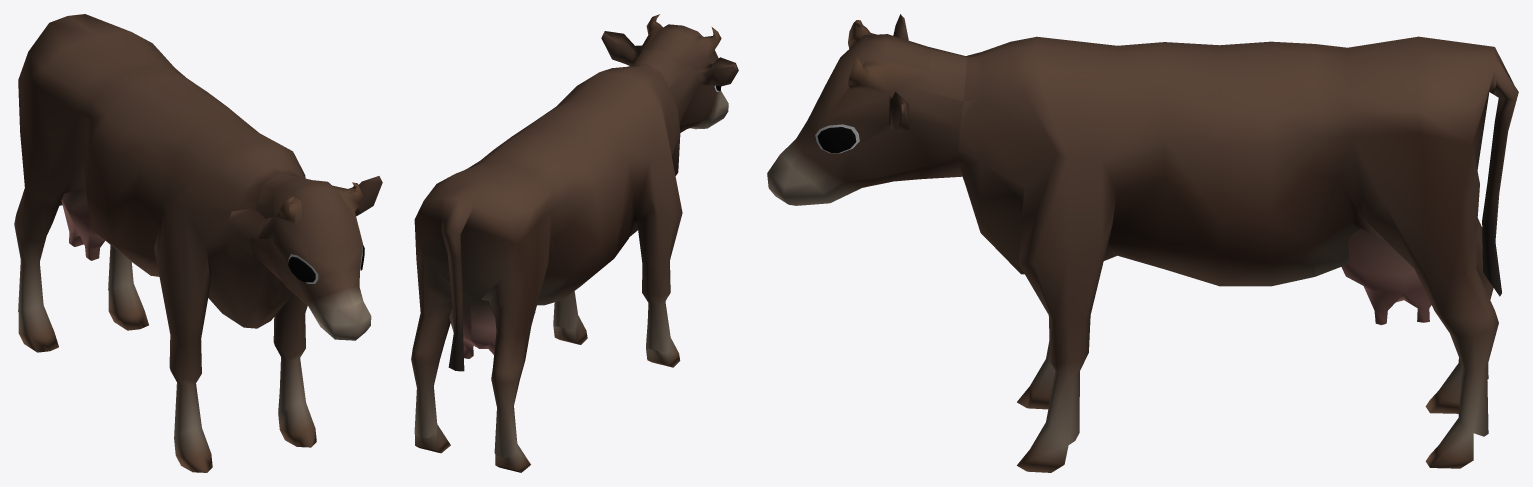
The model's file is BrownCow.fbx.
3 renders of one model, left to right at view 1: azimuth 30°, elevation 25°; view 2: azimuth 150°, elevation 25°; view 3: azimuth 270°, elevation 25°, orthographic. The views are drawn at different scales.
Parts seen in each view (by area): view 1: alt578, alt579; view 2: alt578, alt579; view 3: alt578, alt579.
Part boxes in pixels (bbox=[...]): alt578: bbox=[14, 14, 382, 472]; alt579: bbox=[80, 60, 363, 305]; alt578: bbox=[411, 24, 738, 472]; alt579: bbox=[424, 14, 733, 317]; alt578: bbox=[767, 14, 1518, 472]; alt579: bbox=[780, 20, 1425, 276].
Bounding box in the file's own units: 0.6662 × 1.31 × 2.26.
